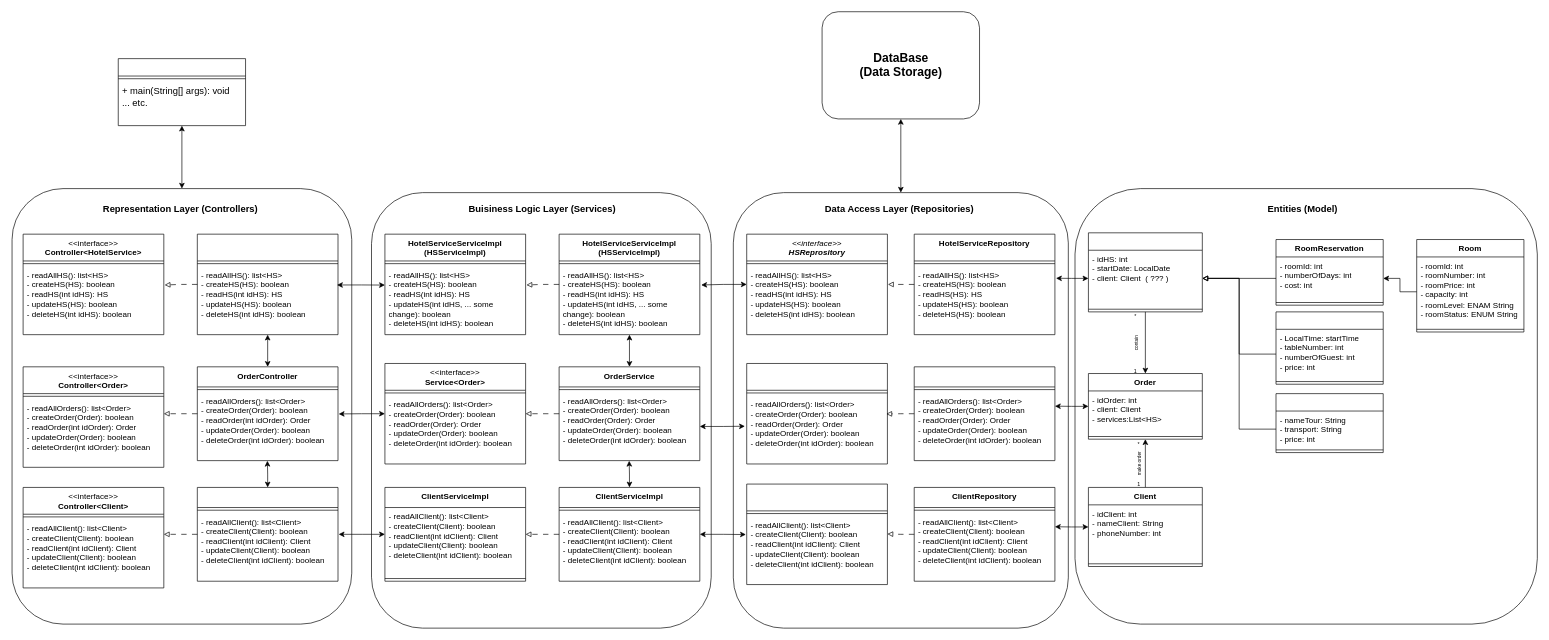
This 1549x640 diagram has some shape labels left out. The box of each missing label's shape, as (x1, y1, x2, y2) in pixels:
<<interface>> Repository<Client>: (746, 483, 887, 585)
<<interface>> Repository<Order>: (746, 363, 887, 464)
ClientController: (197, 487, 338, 581)
GuideTour: (1275, 393, 1383, 453)
HotelService (HS): (1088, 232, 1202, 312)
HotelServiceController: (197, 233, 338, 335)
Main (Console menu): (118, 58, 246, 126)
OrderRepository: (914, 366, 1055, 461)
Restorant: (1275, 311, 1383, 384)
